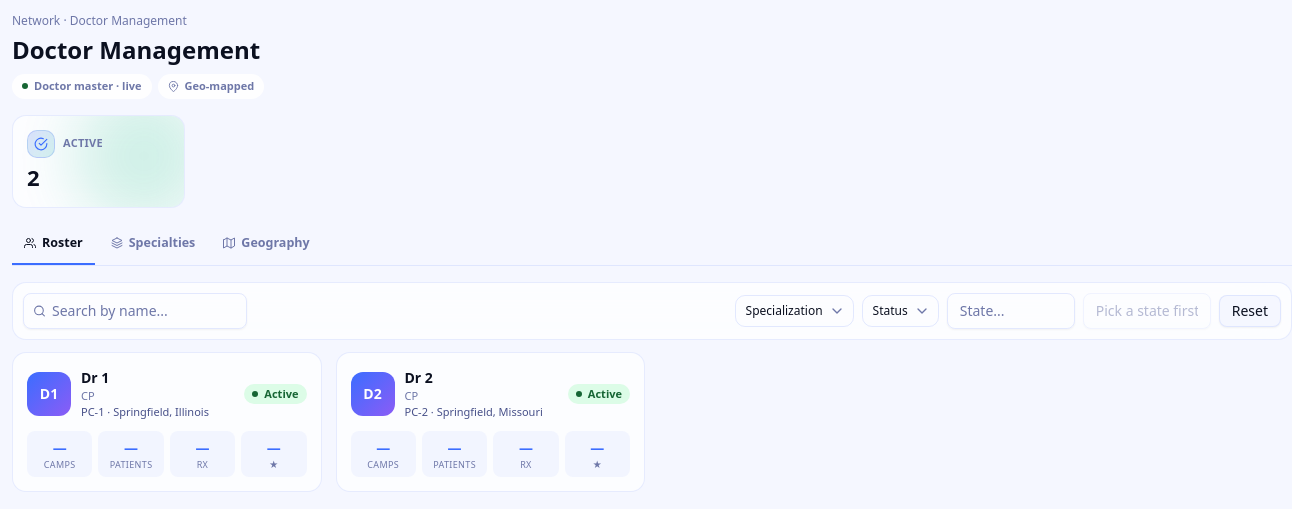
Scenario: DoctorsPage › the Geography jump's externalStateSeed/externalCitySeed actually drives a real Places lookup (not just the plain city/state prop-seeding path)
Click the button "Geography". click: (266, 244)
box: [211,224,322,265]
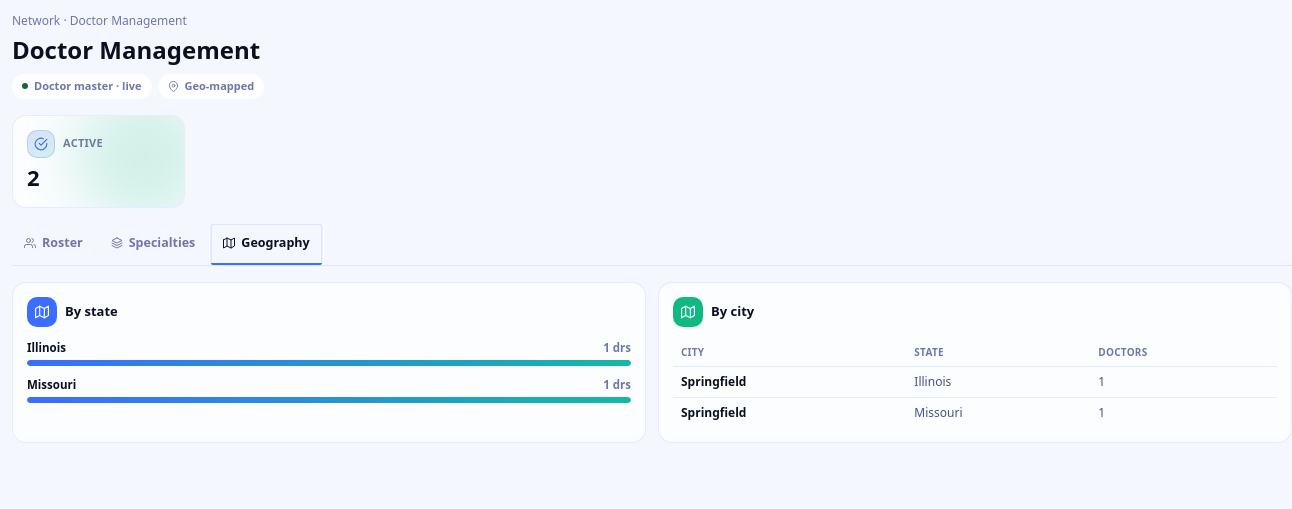
Now the number of cells "Springfield" is 2, box [673,366,906,397]; [673,397,906,428]
Click the row "Missouri". click: (975, 413)
box: [673,397,1277,428]
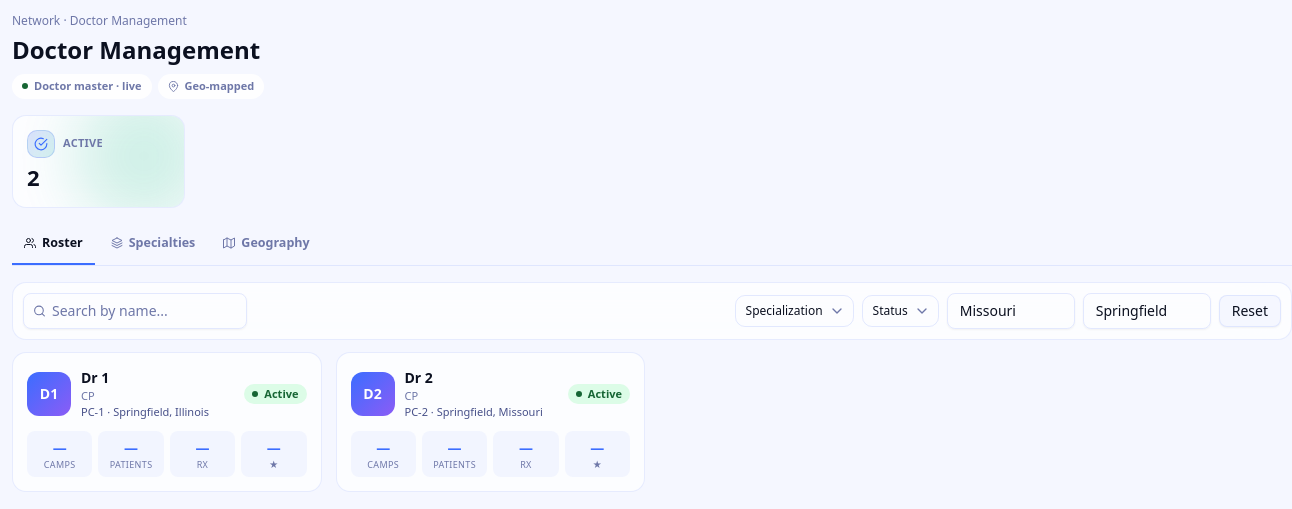
Now the dropdown named "filter by state" holds "Missouri", box [947,293,1075,329]
Now the dropdown named "filter by city" holds "Springfield", box [1083,293,1211,329]
Now the dropdown named "filter by city" is enabled, box [1083,293,1211,329]
